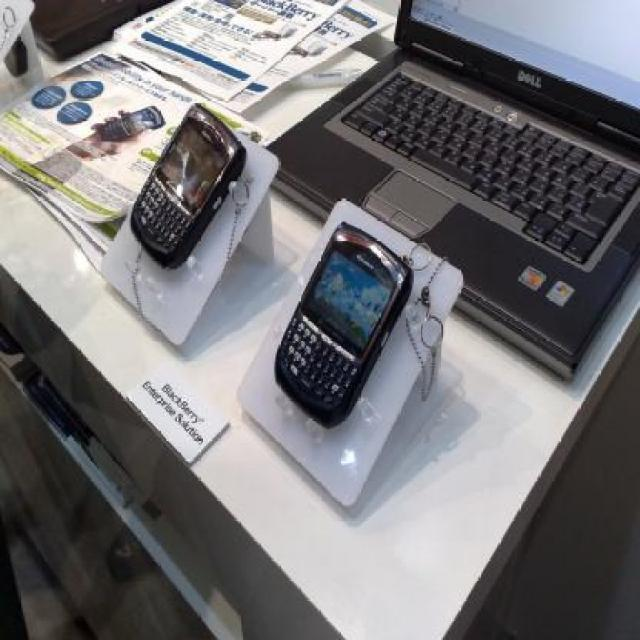phone: (274, 223, 416, 429), (131, 102, 245, 273), (99, 105, 167, 143)
